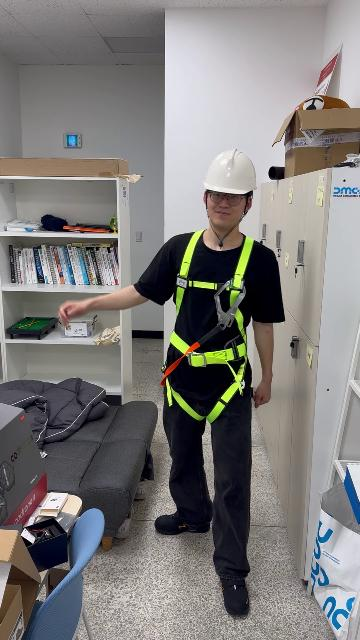helmet_worn: (202, 149, 259, 195)
shoe_not_worn: (134, 481, 146, 500)
shoe_worn: (219, 574, 250, 616), (154, 513, 209, 535)
vest_worn: (163, 237, 255, 414)
